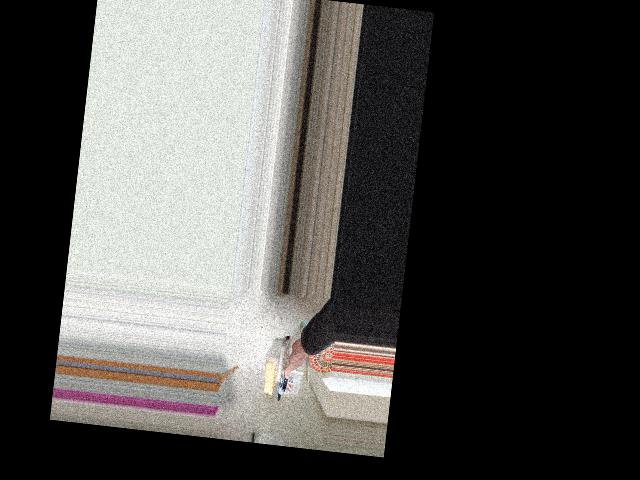cheese: (256, 329, 329, 404)
